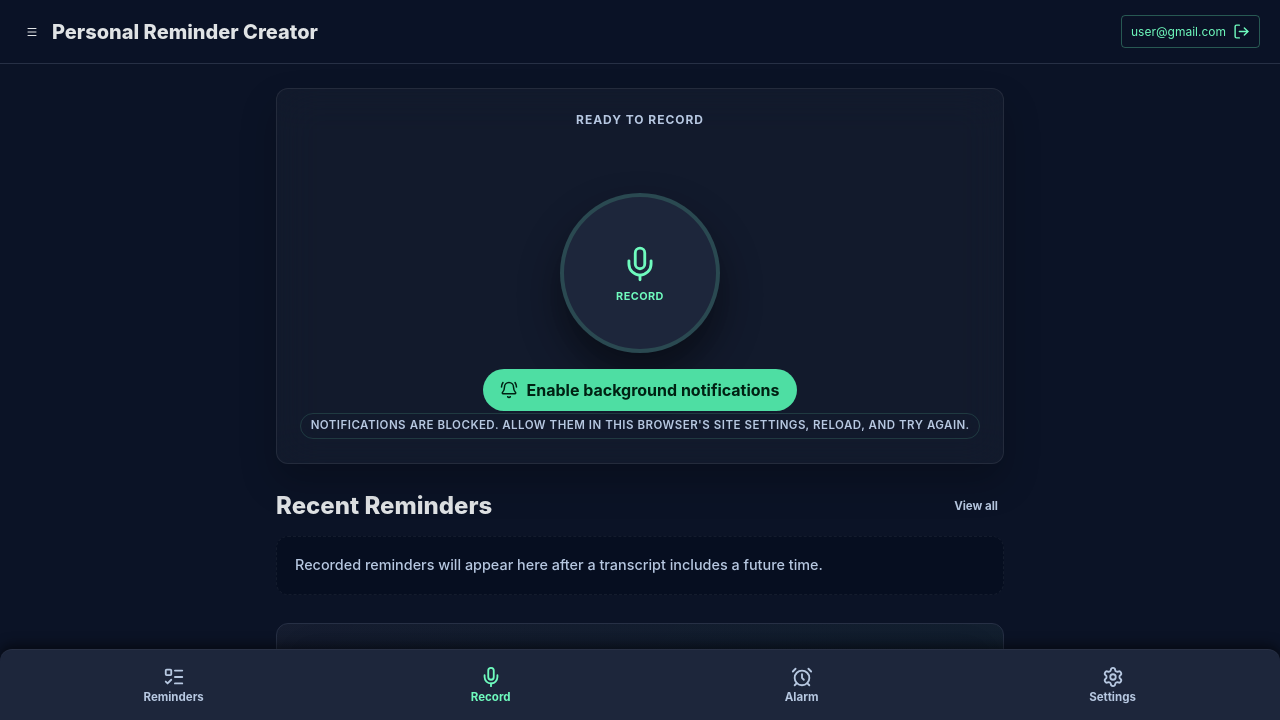
Test case: App › starts recording after microphone permission is granted
Click the button with aria-label "record audio": [640, 273] box [560,193,720,353]
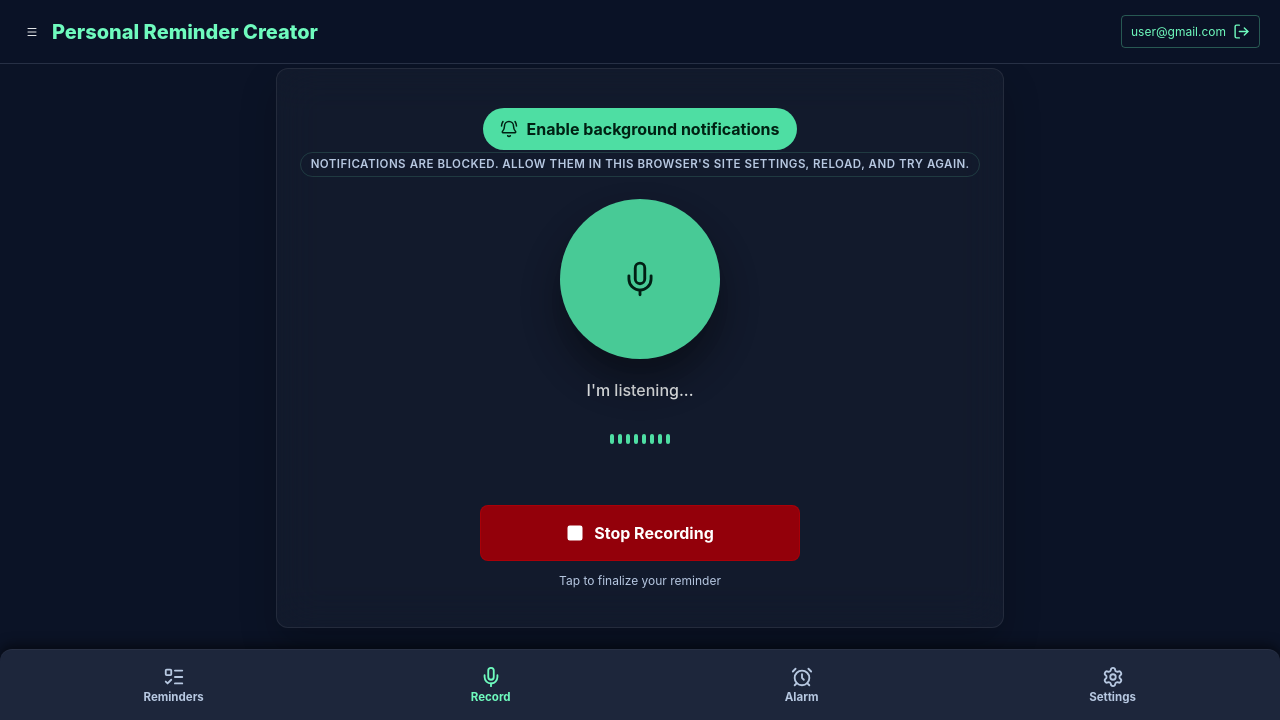
expect the button "Stop Recording" is enabled: met, box [480,505,800,561]
expect the text "I'm listening..." is shown: met, box [586,381,694,401]
expect the button named "record audio" is disabled: met, box [560,199,720,359]
